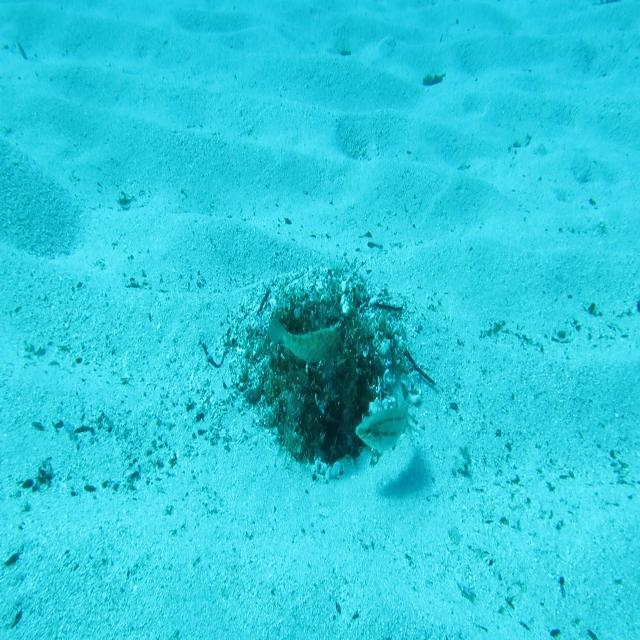ROLL: (264, 312, 348, 370)
core_nest: (299, 316, 336, 361)
female: (354, 362, 408, 458)
nest: (215, 253, 430, 508)
